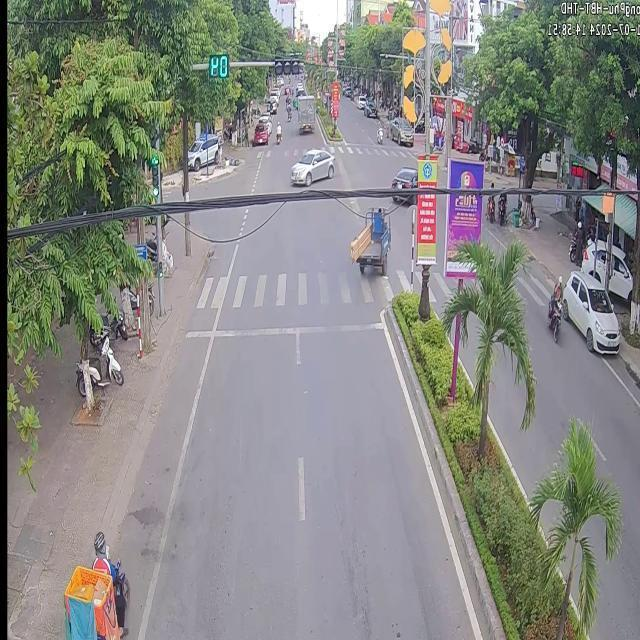car: (348, 207, 389, 274), (289, 147, 333, 185), (296, 94, 313, 131), (389, 165, 416, 187), (390, 194, 413, 199)
green_light: (272, 54, 298, 74), (149, 154, 157, 196)
stop_line: (183, 318, 381, 335)
